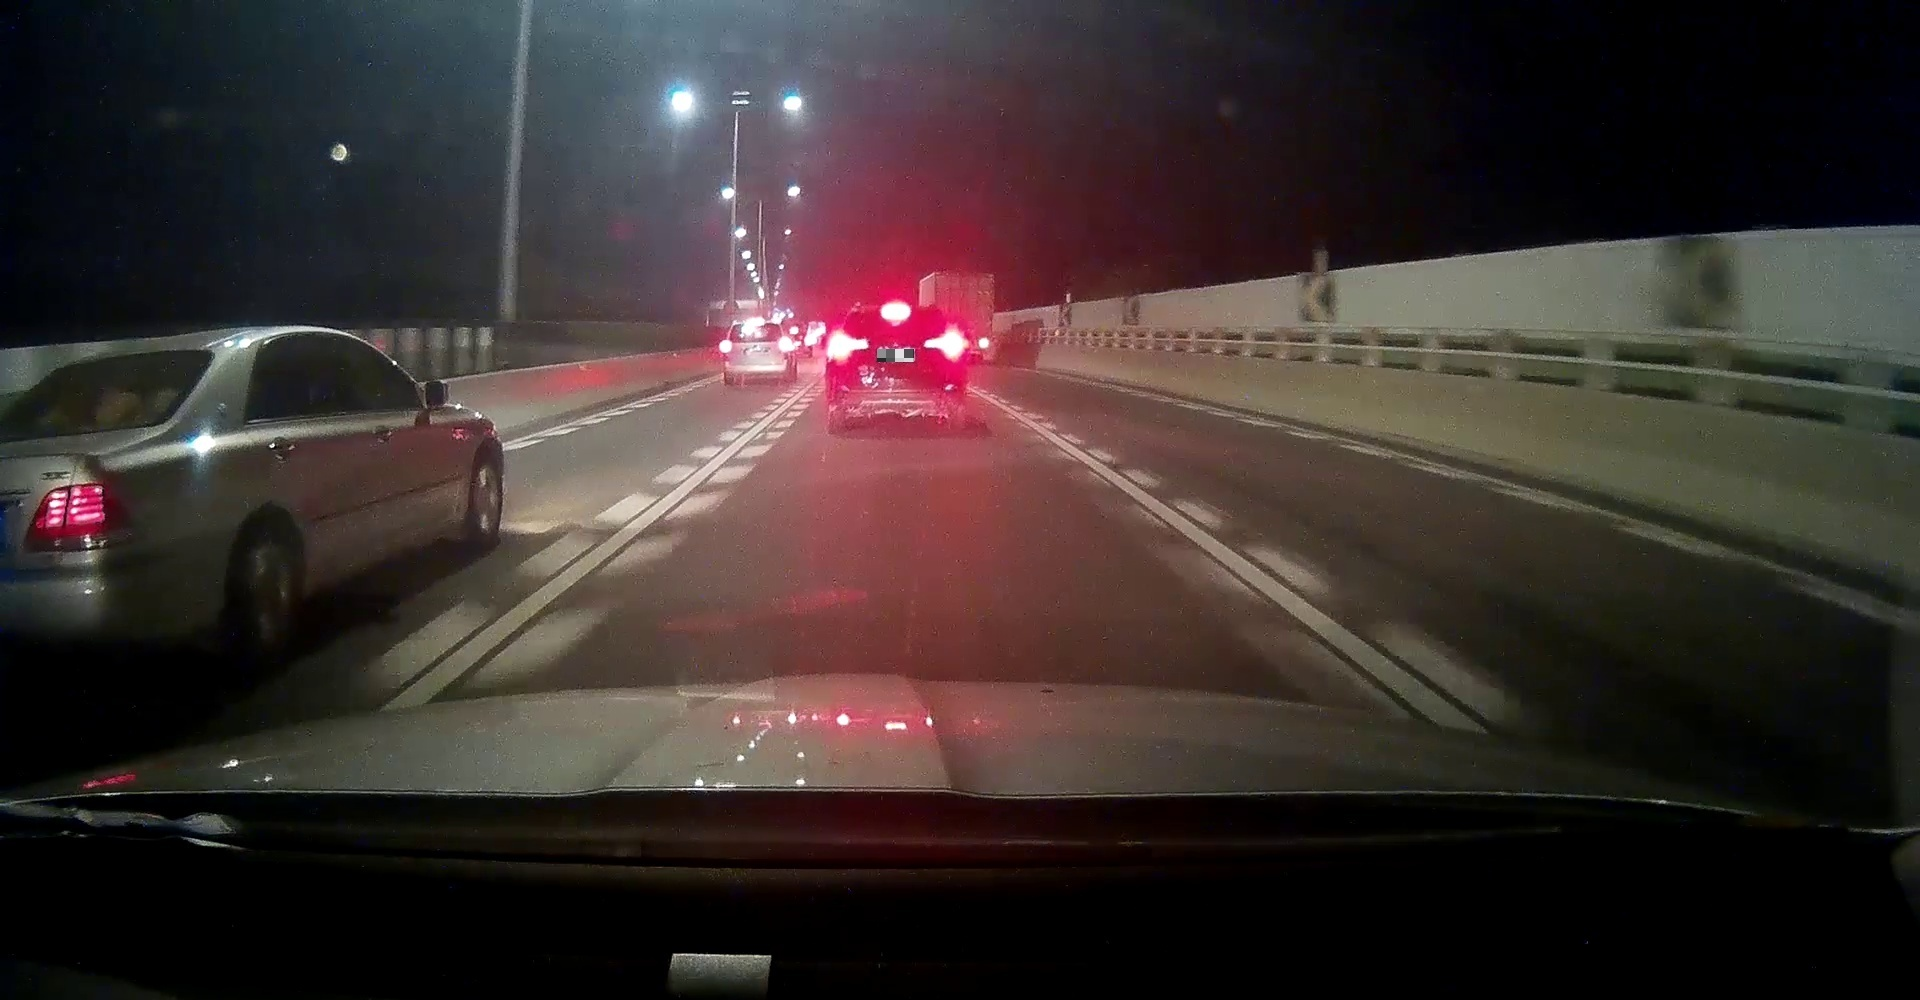L_light: (828, 330, 869, 360), (719, 340, 731, 353)
R_light: (923, 330, 964, 357), (778, 338, 792, 352)
T_light: (880, 307, 910, 315), (748, 321, 764, 325)
night-brake: (827, 301, 968, 434), (717, 319, 794, 386)
plate_1: (877, 349, 914, 362)
